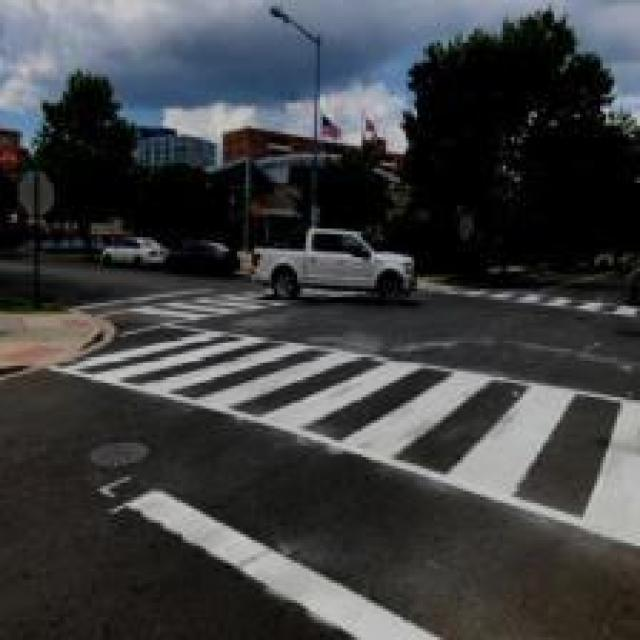crosswalk: (46, 324, 640, 556), (77, 256, 402, 329)
